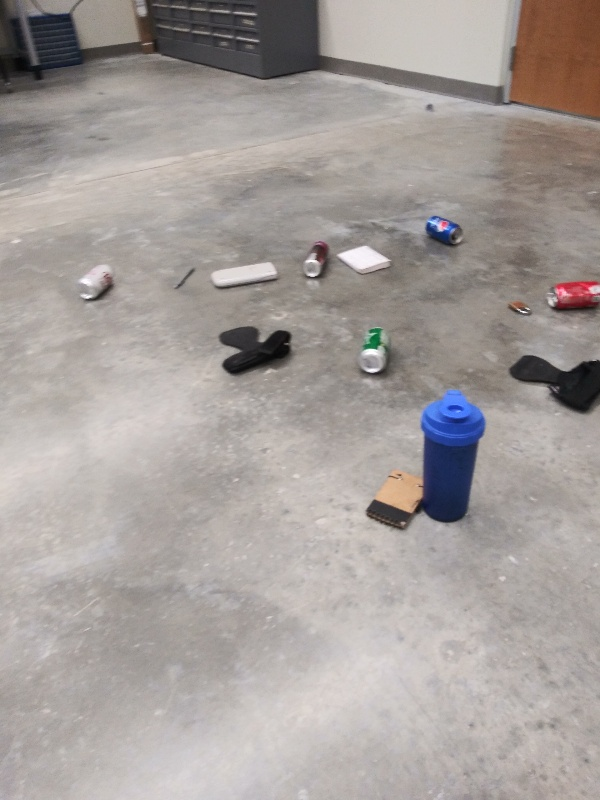can: (356, 323, 396, 376), (74, 260, 118, 306), (544, 278, 600, 313), (298, 236, 335, 283), (420, 212, 466, 248)
